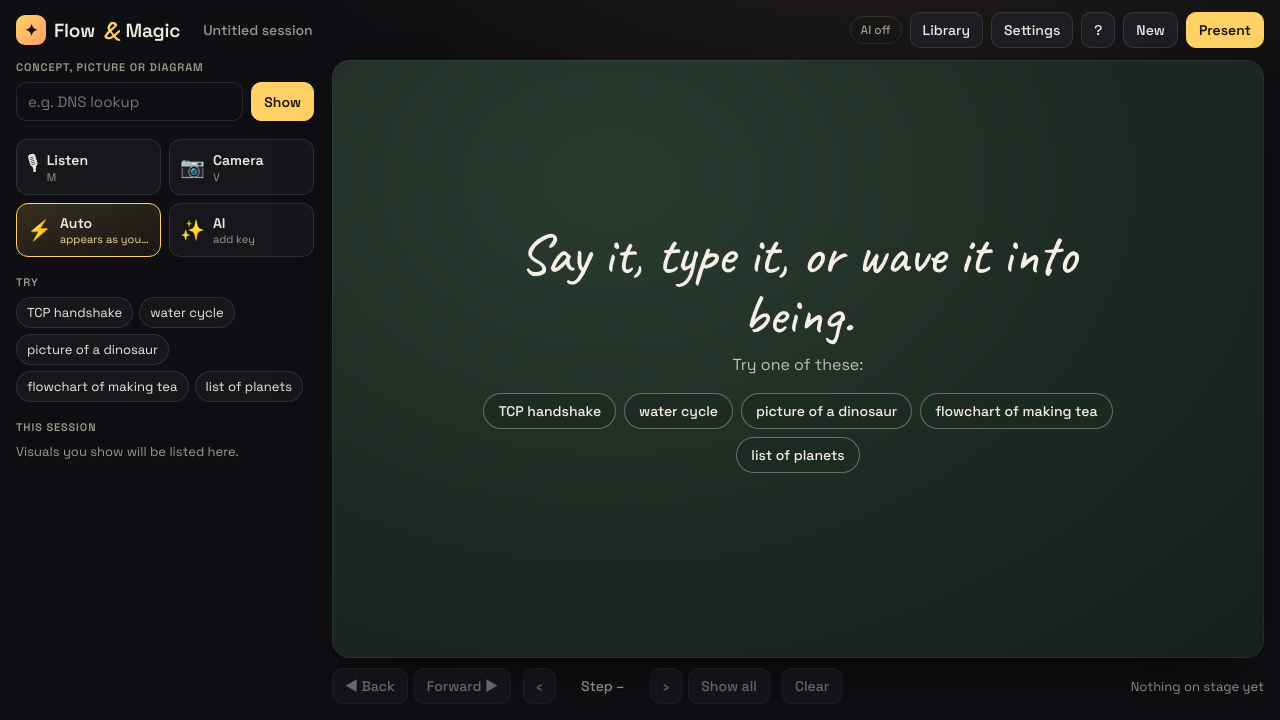
Scenario: App › opens the library and shows a picked concept
Press l
(page scrolled)
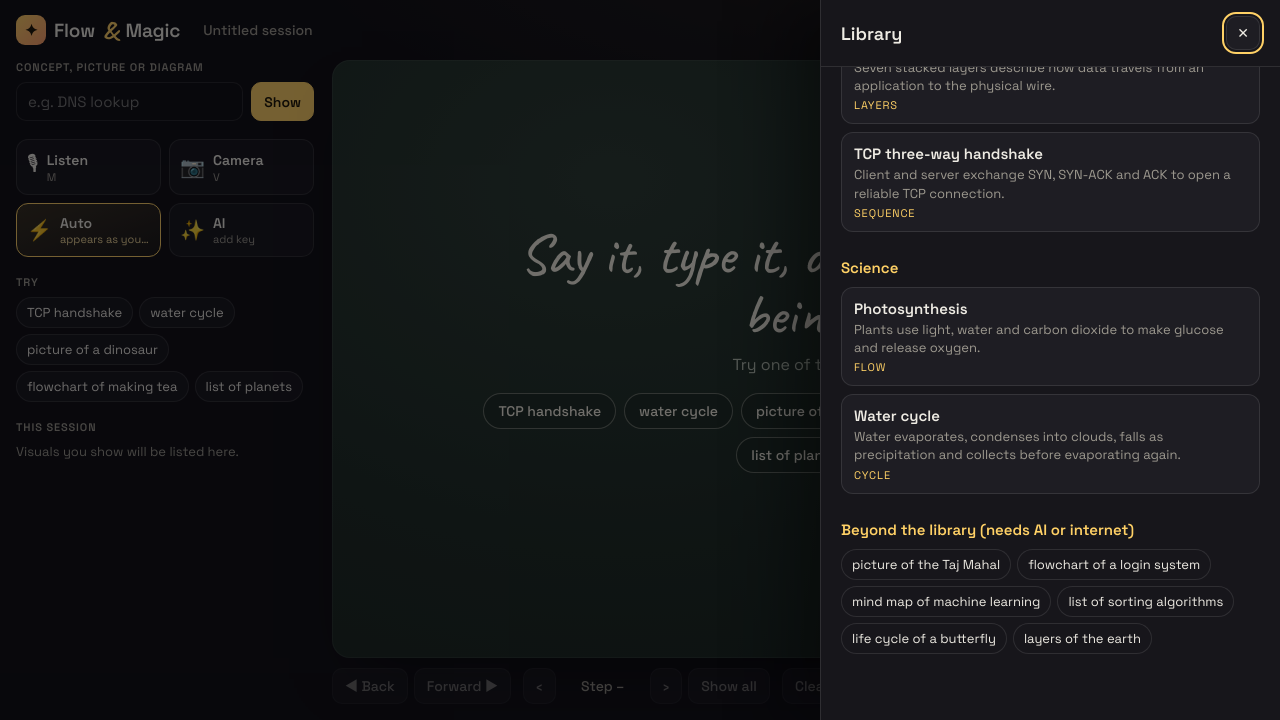
Click the button "Water cycle" at (1050, 444), box [841, 394, 1260, 494]
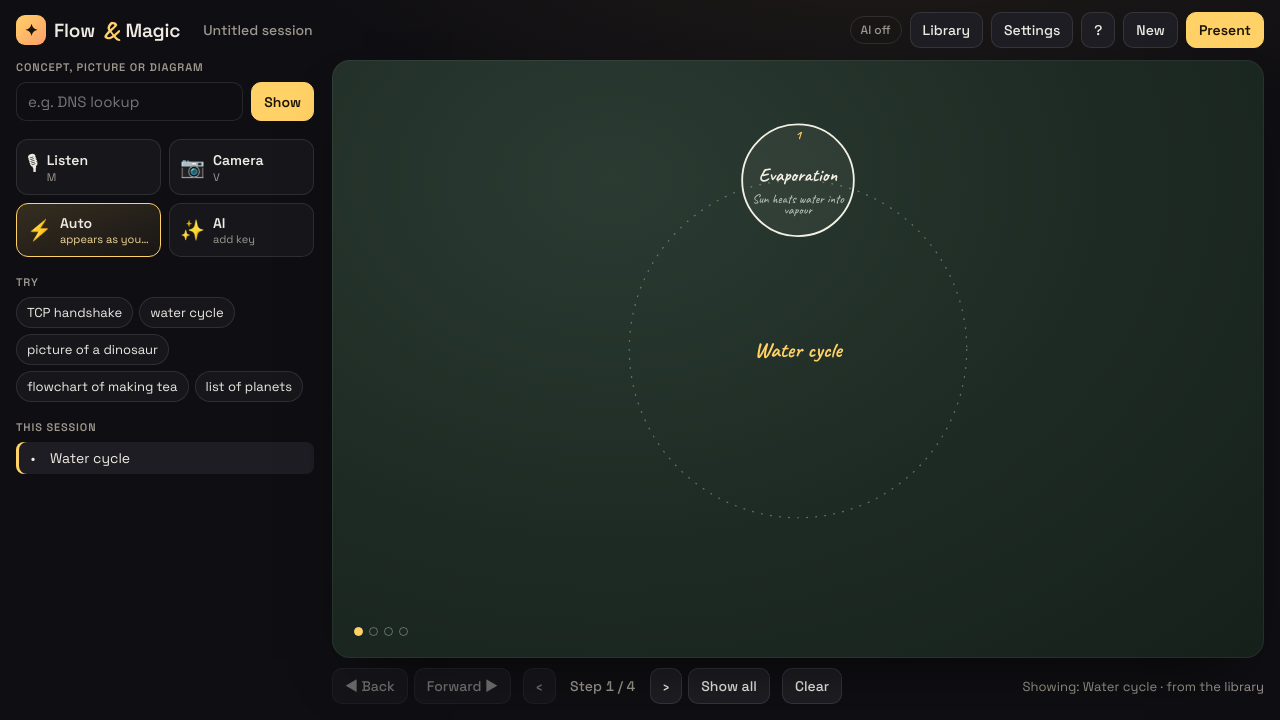
Now the dialog is gone
Now the text "Showing: Water cycle · from the library" is shown, box [1022, 678, 1264, 694]
